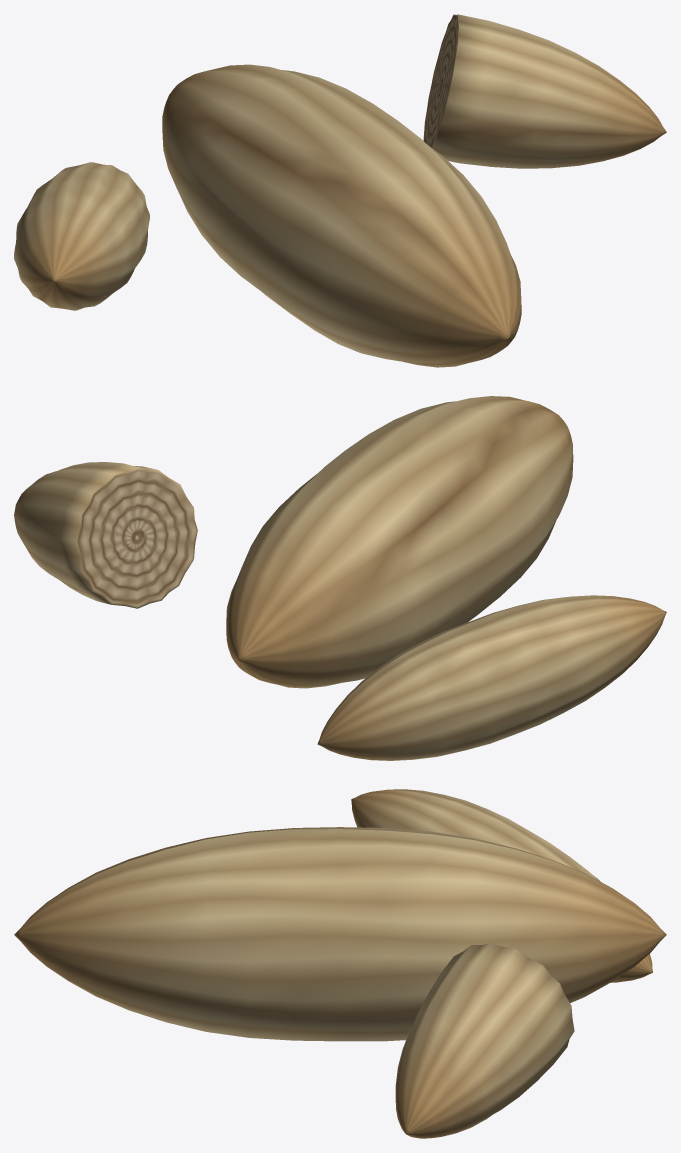
File: Fusulina.fbx
The picture shows the model from 3 angles, top to bottom: view 1: azimuth 30°, elevation 25°; view 2: azimuth 150°, elevation 25°; view 3: azimuth 270°, elevation 25°; orthographic projection. The views are drawn at different scales.
Visible parts, largest first — view 1: Fusulina; view 2: Fusulina; view 3: Fusulina.
Boxes of the visible parts, left/top/right/bottom form: Fusulina: left=14, top=14, right=666, bottom=367; Fusulina: left=14, top=396, right=666, bottom=760; Fusulina: left=14, top=789, right=666, bottom=1138.
Size of the model in its own units: 1.8 by 0.5423 by 1.62.
